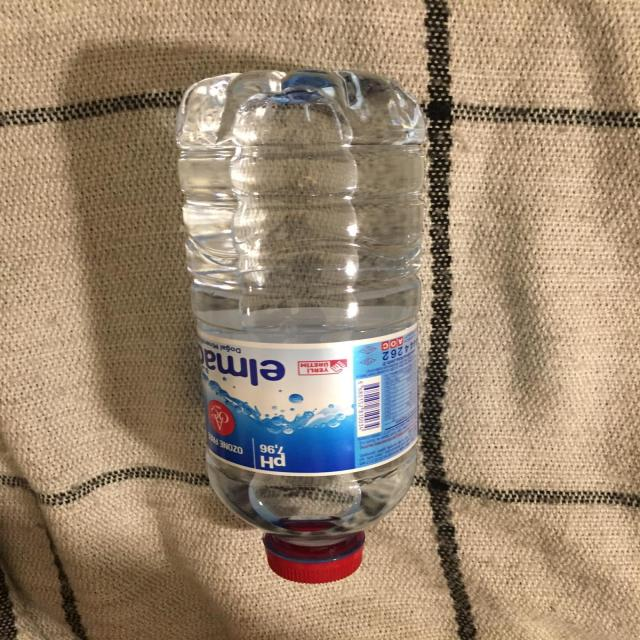anorganik: (188, 67, 441, 595)
